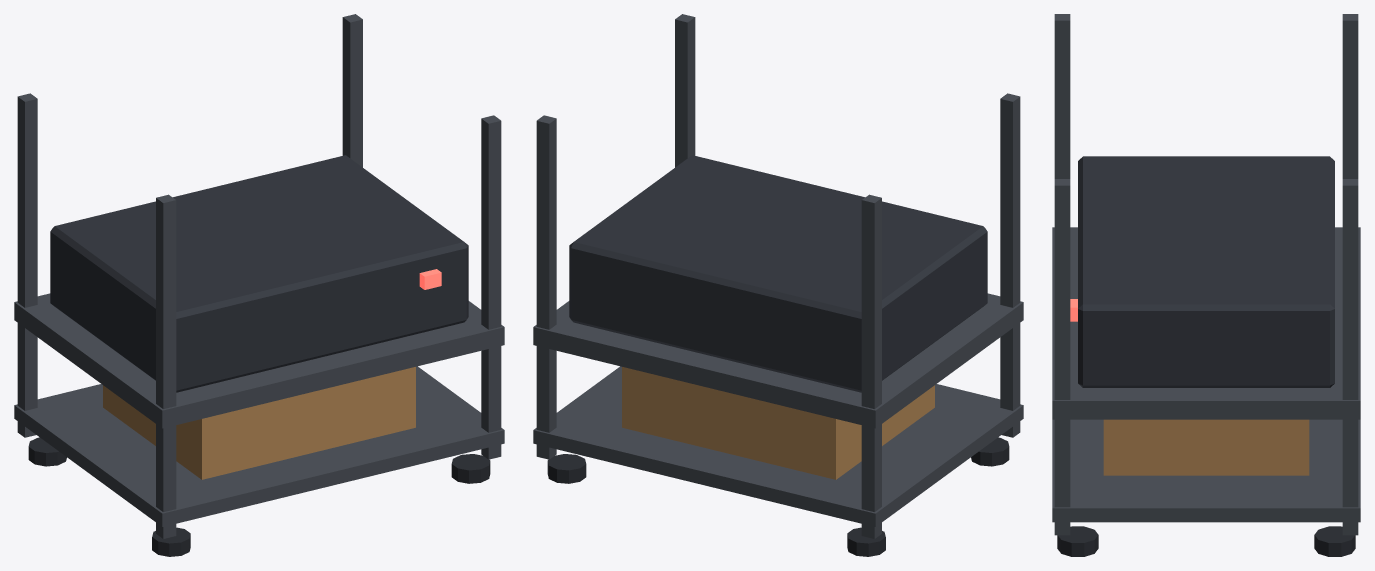
Rendered from server_cart.glb.
3 renders of one model, left to right at view 1: azimuth 30°, elevation 25°; view 2: azimuth 150°, elevation 25°; view 3: azimuth 270°, elevation 25°, orthographic. The views are drawn at different scales.
Visible parts, largest first — view 1: server_cart_mesh; view 2: server_cart_mesh; view 3: server_cart_mesh.
Part boxes in pixels (<box>): server_cart_mesh: <box>14,14,504,556</box>; server_cart_mesh: <box>533,14,1023,556</box>; server_cart_mesh: <box>1052,14,1360,556</box>.
Bounding box in the file's own units: 0.8 × 0.8 × 0.6.
